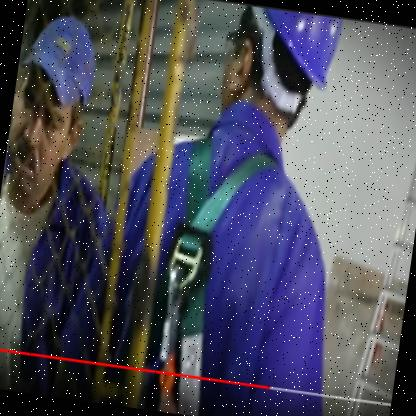capacete: (214, 1, 353, 137)
sem_capacete: (1, 7, 104, 201)
sem_colete_refletivo: (79, 81, 374, 415), (0, 146, 126, 401)
